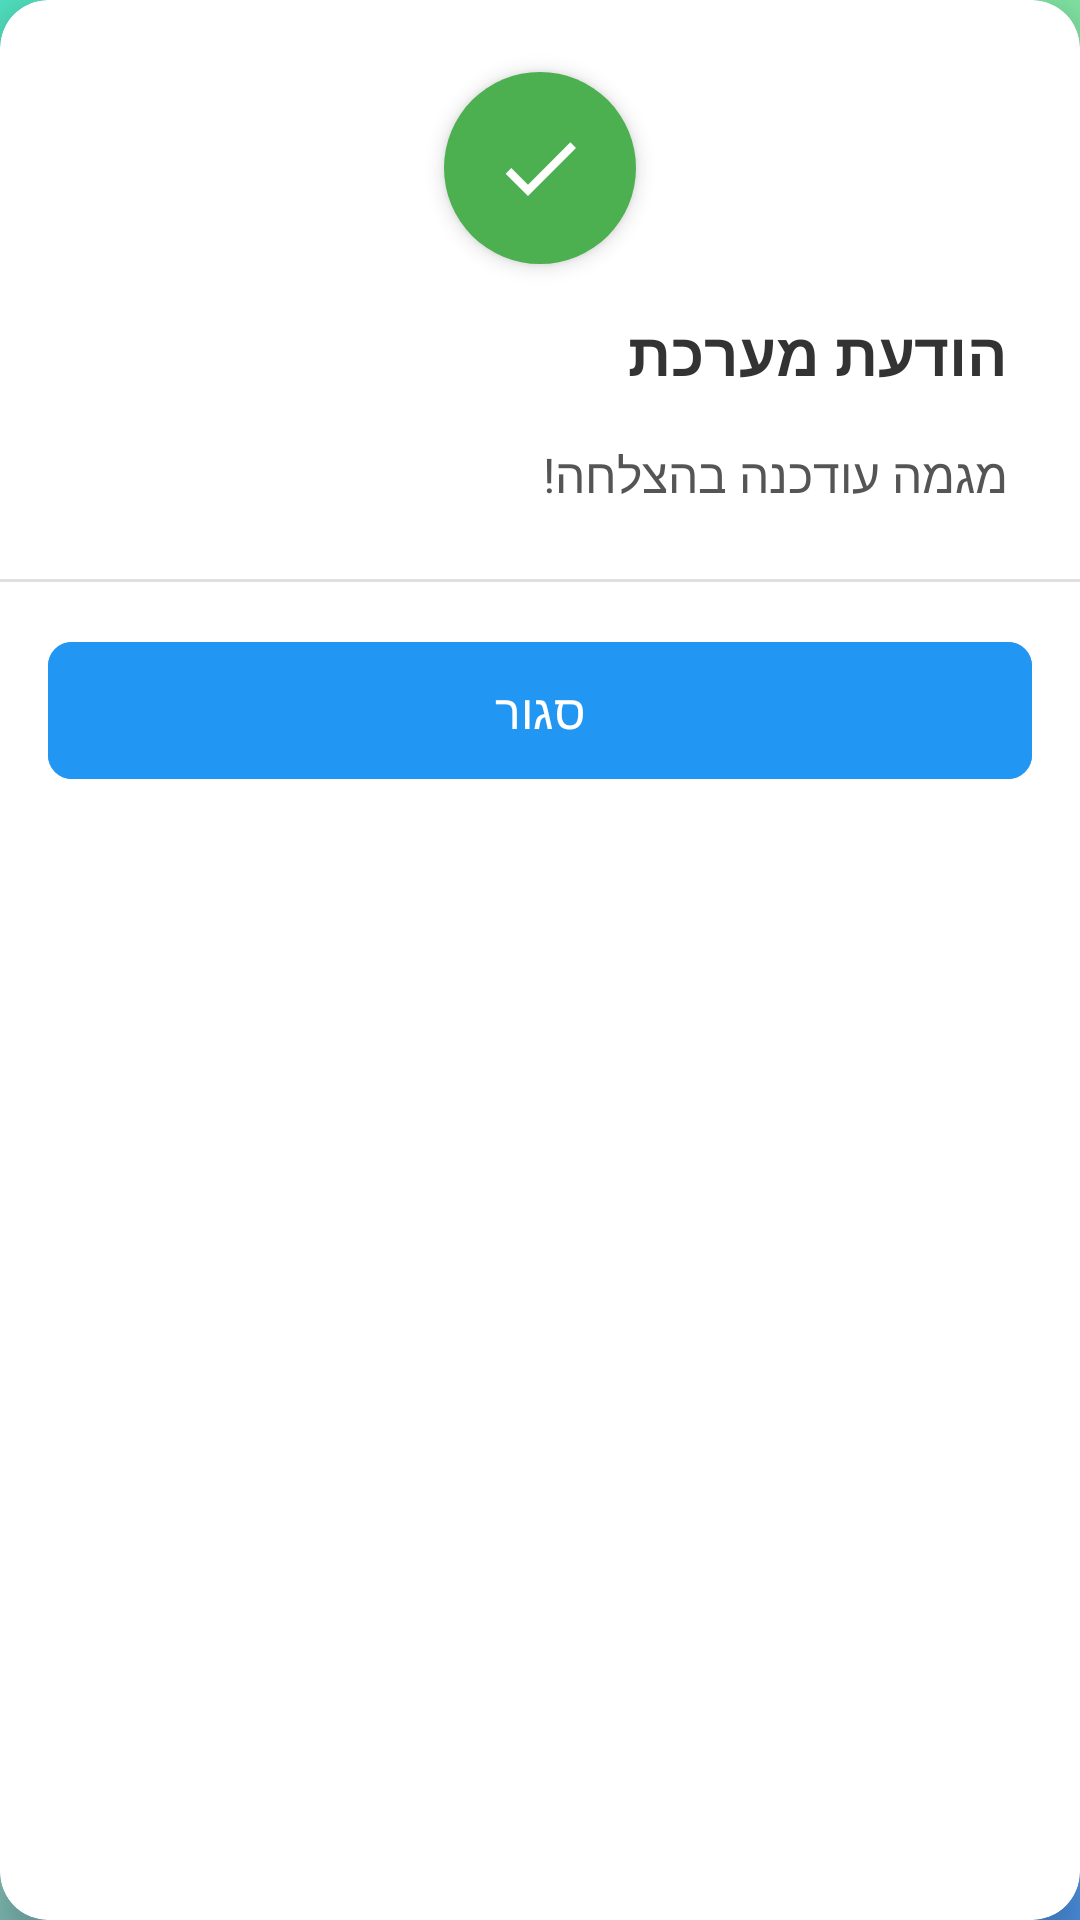

Where to tap for icons on this 1080 x 1920 app screen, as (x=x, y=y):
checkmark: (x=540, y=168)
